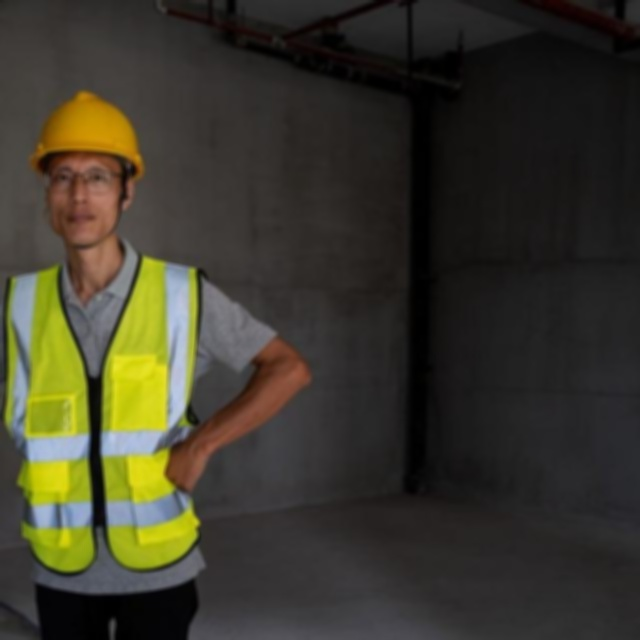Con_Casco: (30, 90, 145, 246)
Con_Chaleco: (0, 254, 210, 577)
